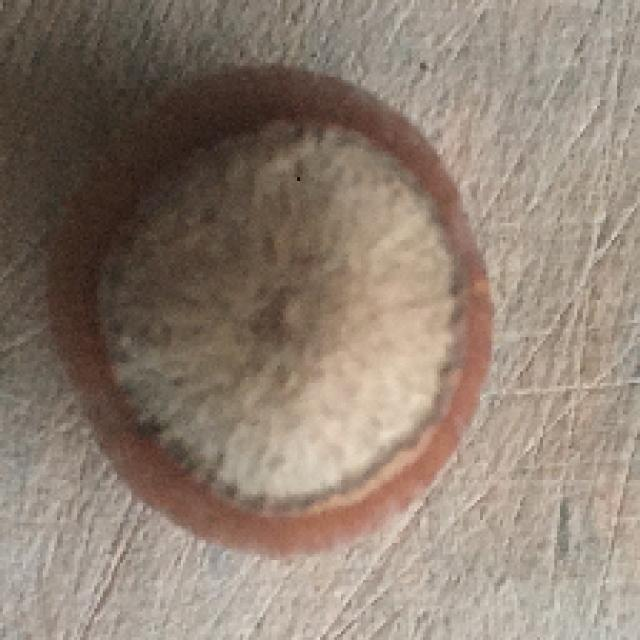qualityHazelnut: (45, 62, 506, 560)
